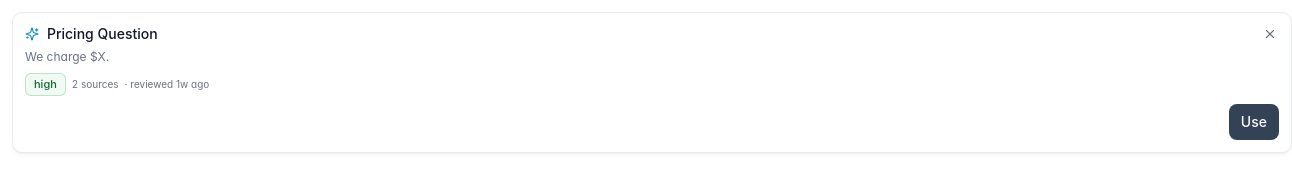
BbSuggestionTray › Dismiss removes the card without calling onApply
Click the button named "Dismiss suggestion": (1270, 34) [1261,25,1279,43]
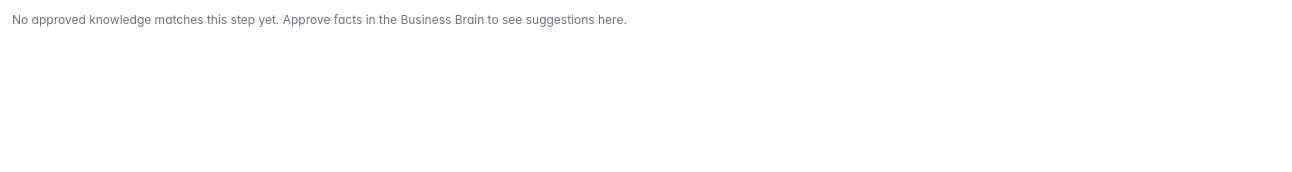
Now the element with test id "bb-suggestion-card" is gone
